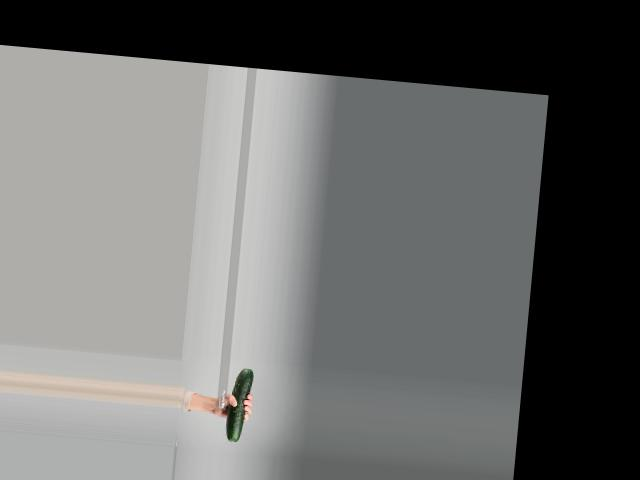cucumber: (225, 366, 254, 441)
